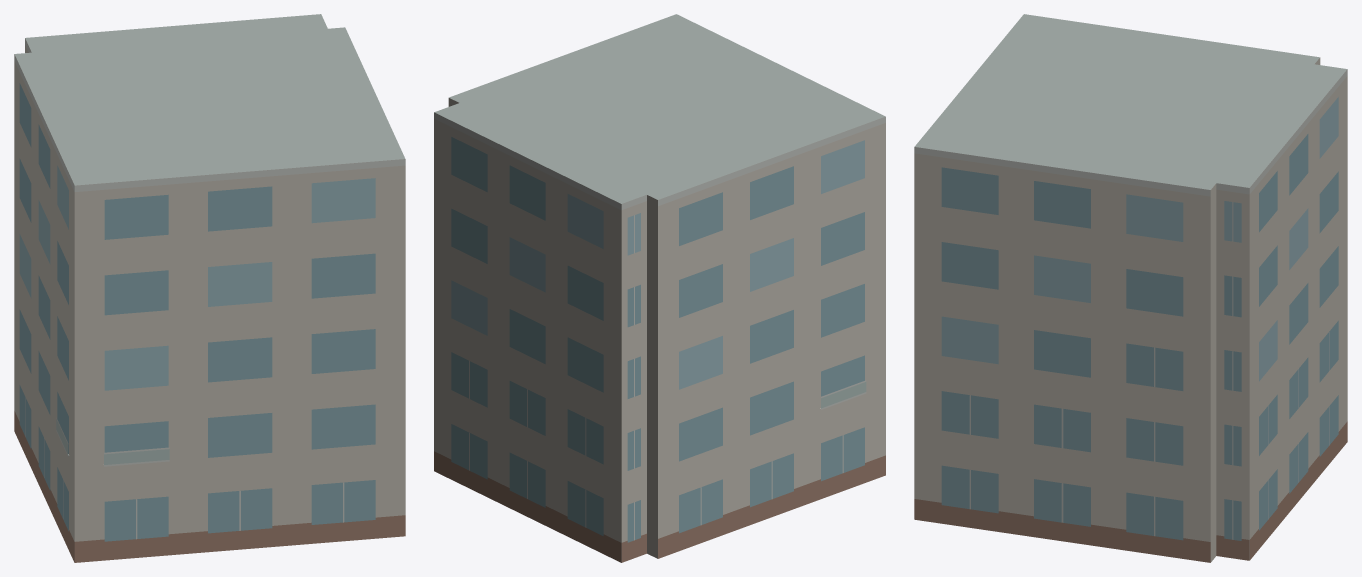
File: survey-upis-32792605.glb
3 views of the same model, side by side, from view 1: azimuth 30°, elevation 25°; view 2: azimuth 150°, elevation 25°; view 3: azimuth 270°, elevation 25° (orthographic). The views are drawn at different scales.
Visible parts, largest first — view 1: survey-upis-32792605.tmp; view 2: survey-upis-32792605.tmp; view 3: survey-upis-32792605.tmp.
Boxes of the visible parts, x1,y1,x2,y2 form: survey-upis-32792605.tmp: (14,14,405,562); survey-upis-32792605.tmp: (434,14,885,562); survey-upis-32792605.tmp: (914,14,1347,562).
Bounding box in the file's own units: 14.19 × 14 × 14.75.
